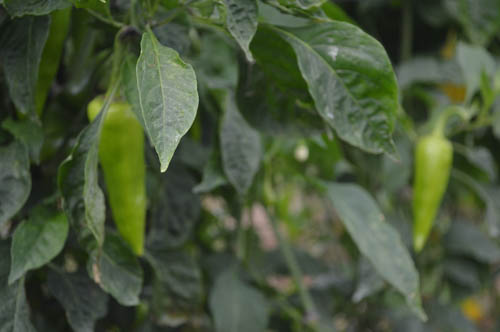ChiliPepper: (87, 99, 146, 257), (403, 138, 455, 252)
